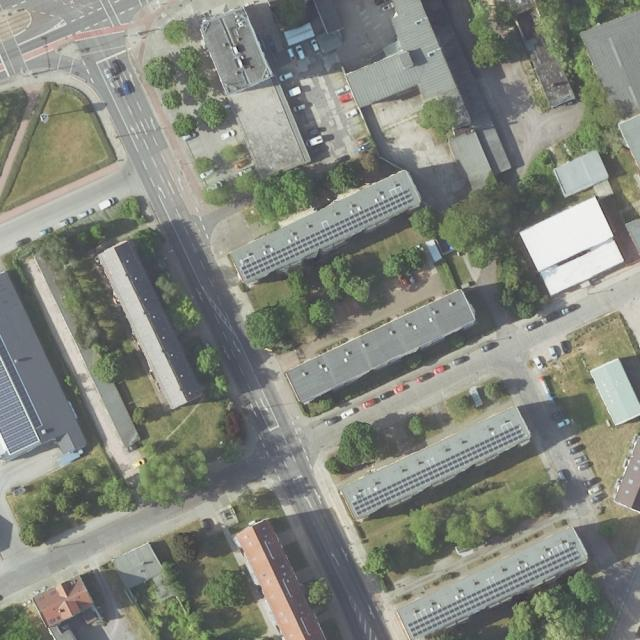PV: (407, 544, 581, 639), (239, 188, 416, 281), (350, 425, 517, 514), (0, 335, 44, 455)
